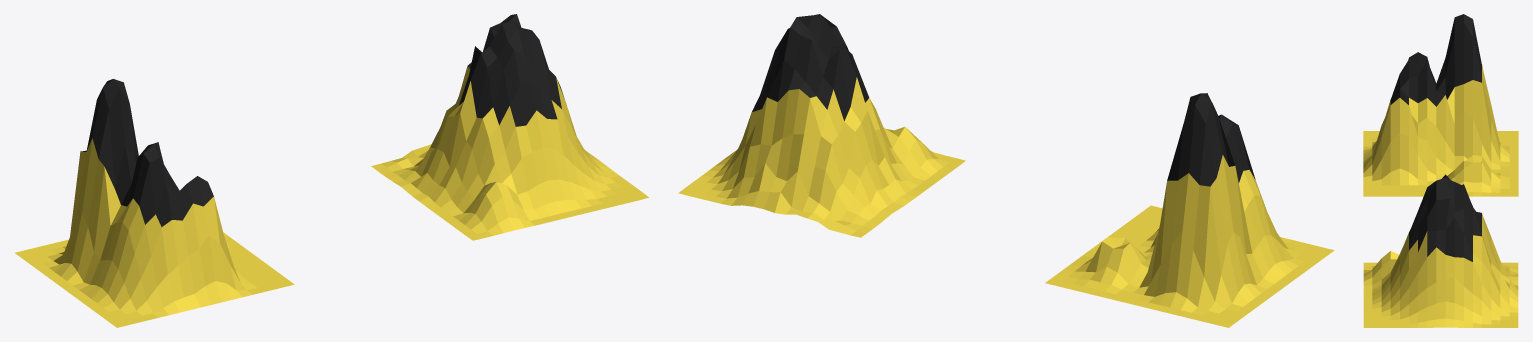
Rendered from mount.obj.
3 renders of one model, left to right at view 1: azimuth 30°, elevation 25°; view 2: azimuth 150°, elevation 25°; view 3: azimuth 270°, elevation 25°, orthographic. The views are drawn at different scales.
Parts seen in each view (by area): view 1: Plane.002_Plane.001, Plane.001_Plane; view 2: Plane.001_Plane, Plane.002_Plane.001; view 3: Plane.002_Plane.001, Plane.001_Plane.
Part boxes in pixels (bbox=[...]): Plane.002_Plane.001: bbox=[14, 79, 294, 327]; Plane.001_Plane: bbox=[371, 14, 648, 240]; Plane.001_Plane: bbox=[678, 14, 965, 237]; Plane.002_Plane.001: bbox=[1045, 93, 1334, 327]; Plane.002_Plane.001: bbox=[1363, 14, 1518, 196]; Plane.001_Plane: bbox=[1363, 174, 1518, 327].
Bounding box in the file's own units: 29.98 × 9.96 × 10.
